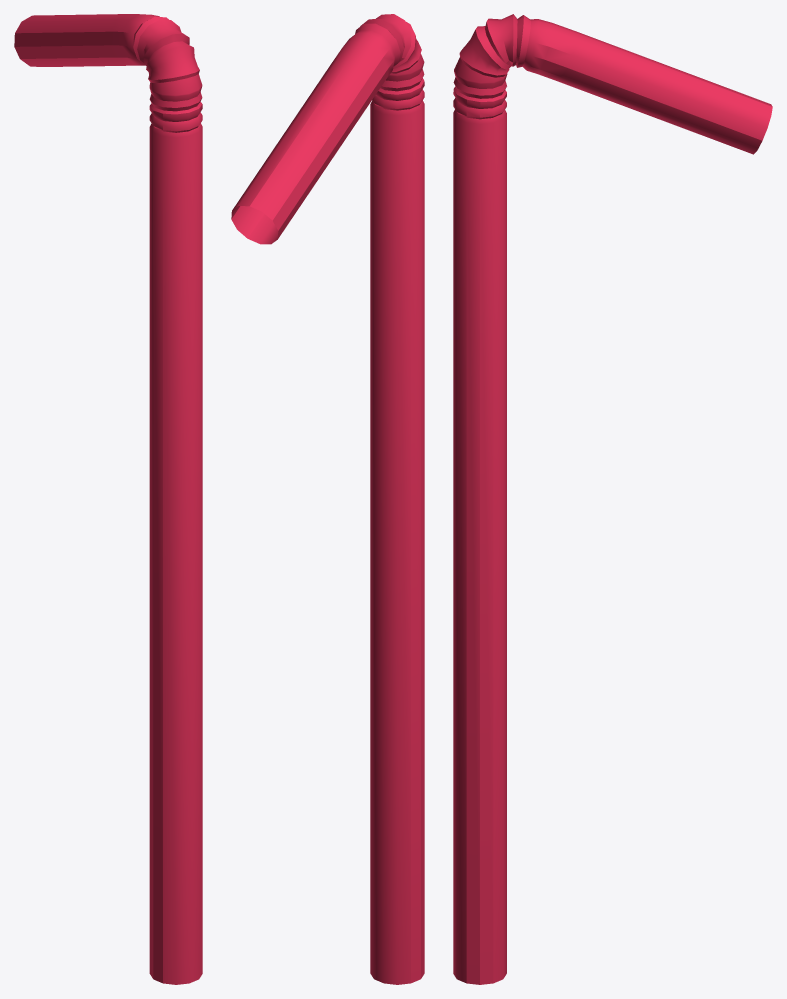
File: PinkStraw_01_mesh.fbx
3 renders of one model, left to right at view 1: azimuth 30°, elevation 25°; view 2: azimuth 150°, elevation 25°; view 3: azimuth 270°, elevation 25°, orthographic. The views are drawn at different scales.
Parts seen in each view (by area): view 1: Plane; view 2: Plane; view 3: Plane.
Boxes of the visible parts, left/top/right/bottom form: Plane: left=14, top=14, right=202, bottom=984; Plane: left=231, top=14, right=424, bottom=984; Plane: left=453, top=14, right=772, bottom=984.
Bounding box in the file's own units: 0.46 × 9.05 × 2.74.
